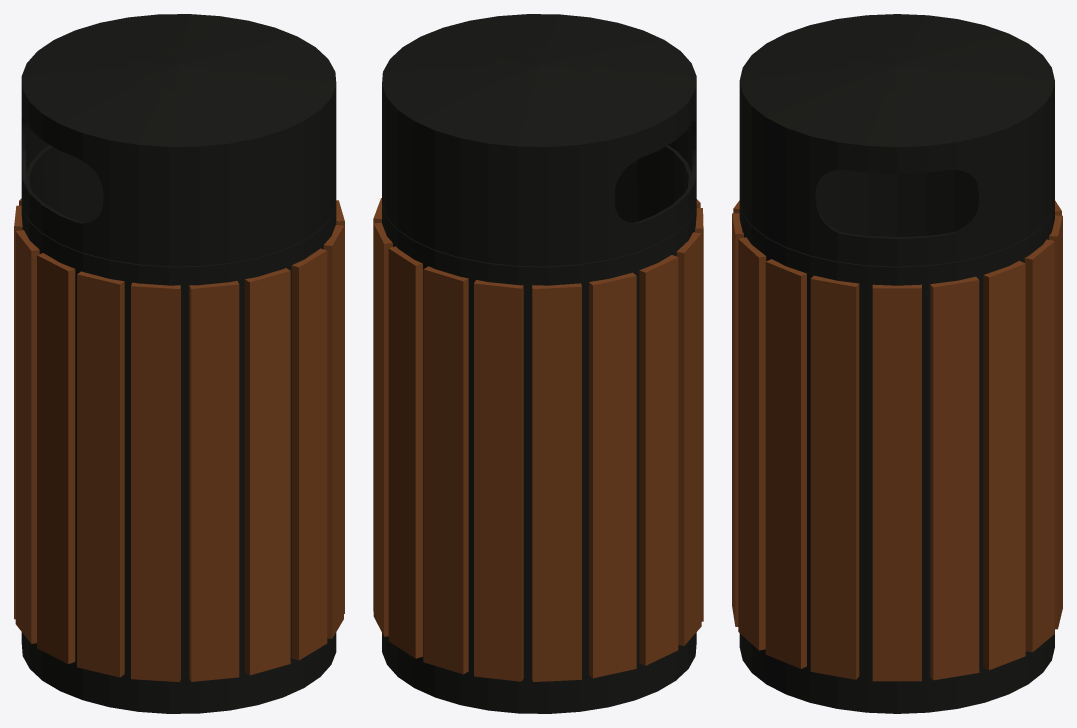
The model's file is TrashCan.fbx.
3 renders of one model, left to right at view 1: azimuth 30°, elevation 25°; view 2: azimuth 150°, elevation 25°; view 3: azimuth 270°, elevation 25°, orthographic.
Parts seen in each view (by area): view 1: Cube, Cylinder.001, Cylinder; view 2: Cube, Cylinder.001, Cylinder; view 3: Cube, Cylinder.001, Cylinder.
Boxes of the visible parts, x1,y1,x2,y2 form: Cube: [14, 198, 344, 682]; Cylinder.001: [21, 14, 336, 266]; Cylinder: [21, 145, 336, 713]; Cube: [373, 198, 703, 681]; Cylinder.001: [382, 14, 696, 266]; Cylinder: [382, 145, 696, 713]; Cube: [732, 200, 1062, 681]; Cylinder.001: [739, 14, 1054, 266]; Cylinder: [739, 170, 1054, 713].
Size of the model in its own units: 83.66 by 163 by 83.94.
